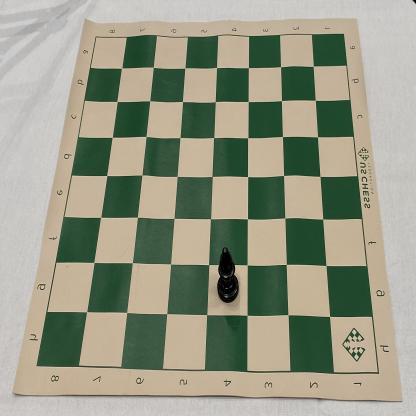black-bishop: (217, 248, 240, 304)
